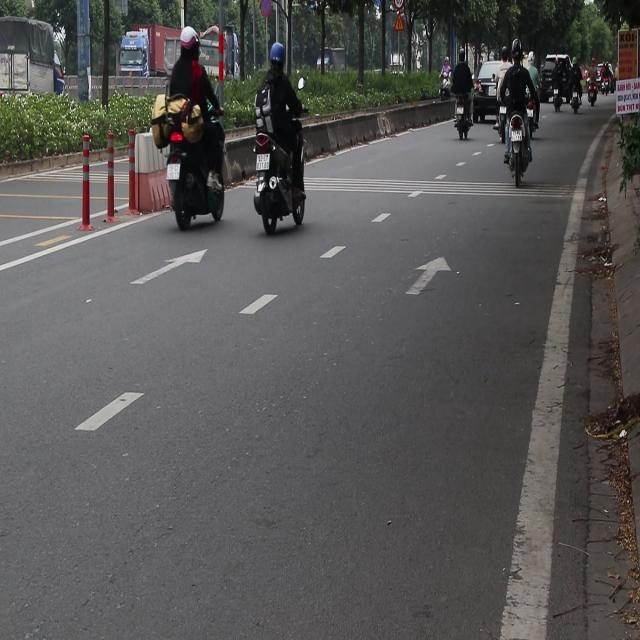car: (472, 61, 512, 122), (540, 46, 576, 108)
motorbike: (166, 114, 227, 230), (254, 127, 307, 234), (496, 106, 535, 185), (454, 98, 474, 144), (436, 67, 455, 107), (549, 84, 563, 115), (571, 85, 583, 114), (586, 82, 598, 107)
truck: (0, 25, 72, 100), (110, 21, 177, 91), (176, 22, 242, 84)
